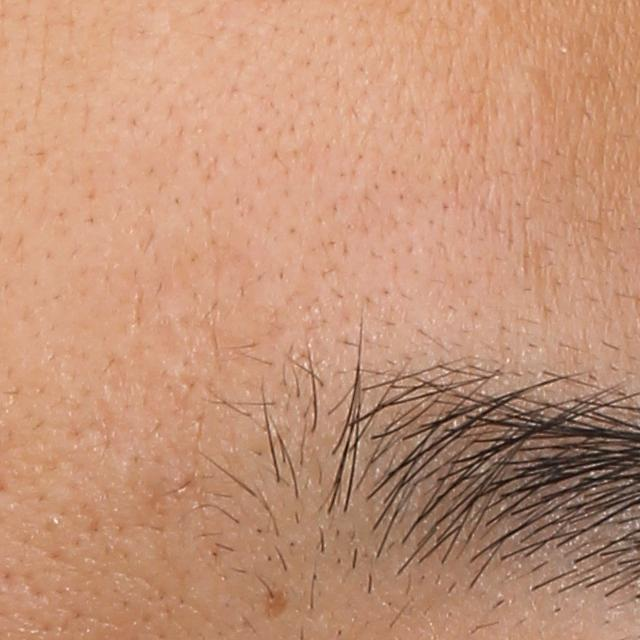comedo: (513, 66, 549, 98), (478, 4, 500, 25)
